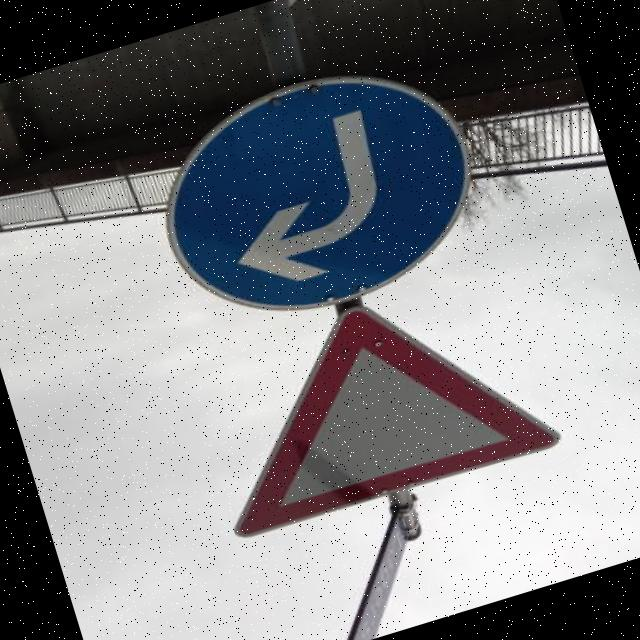give_way: (167, 256, 562, 570)
